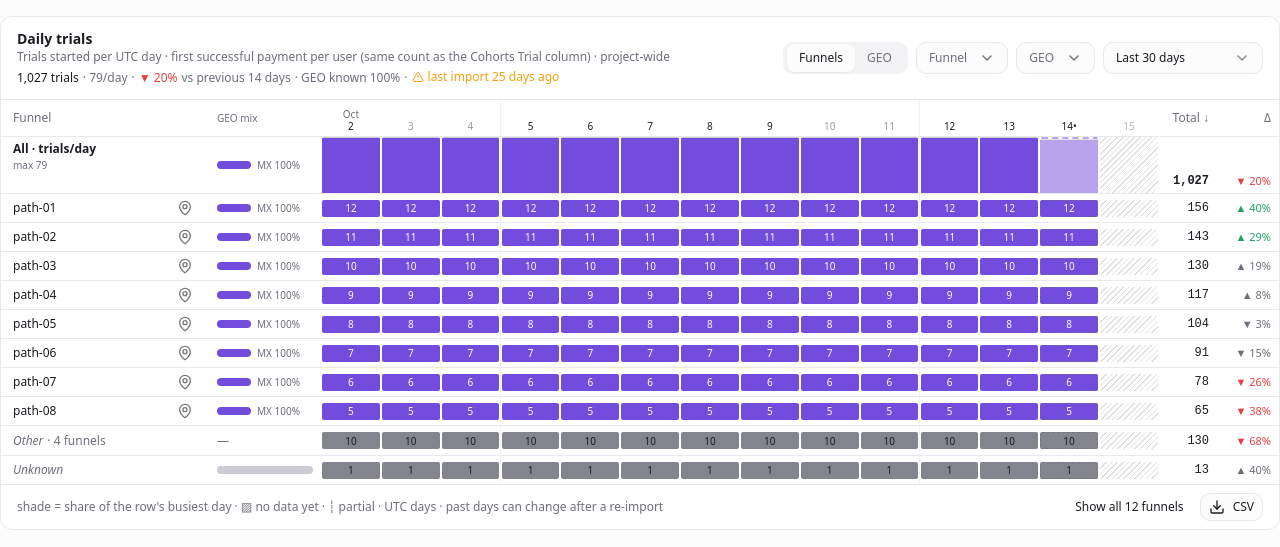
Test: TrialsDailySection › 'GEO of this funnel' filters the funnel and opens the GEO view
Click the button named "GEO of this funnel: path-02".
click(185, 237)  # box [173,225,197,249]
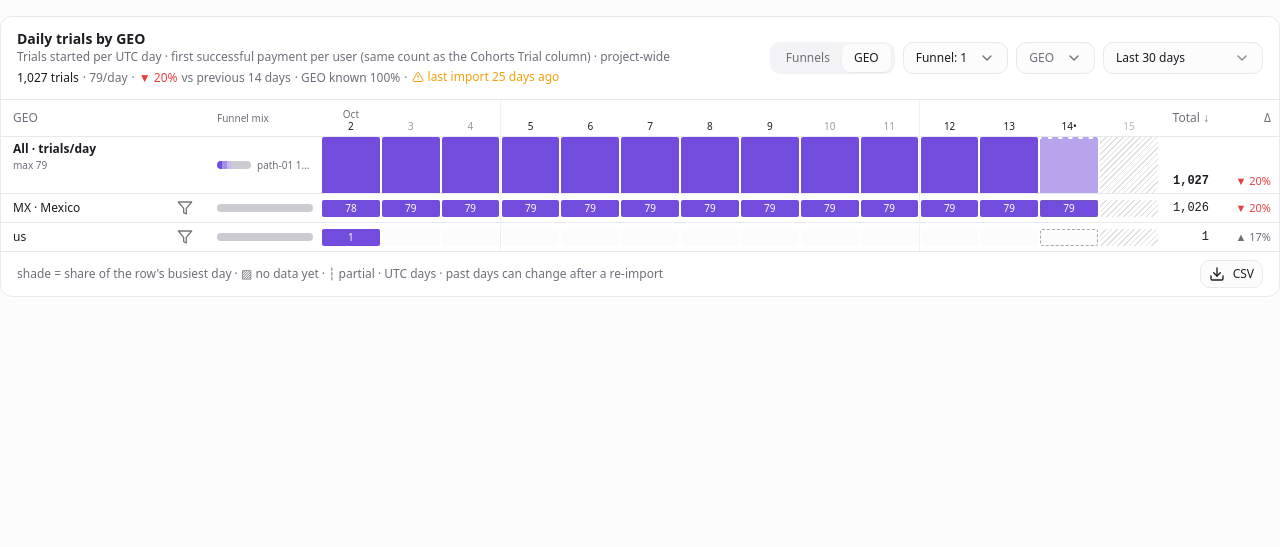
Now the heading "Daily trials by GEO" is shown, box [17,29,145,48]
